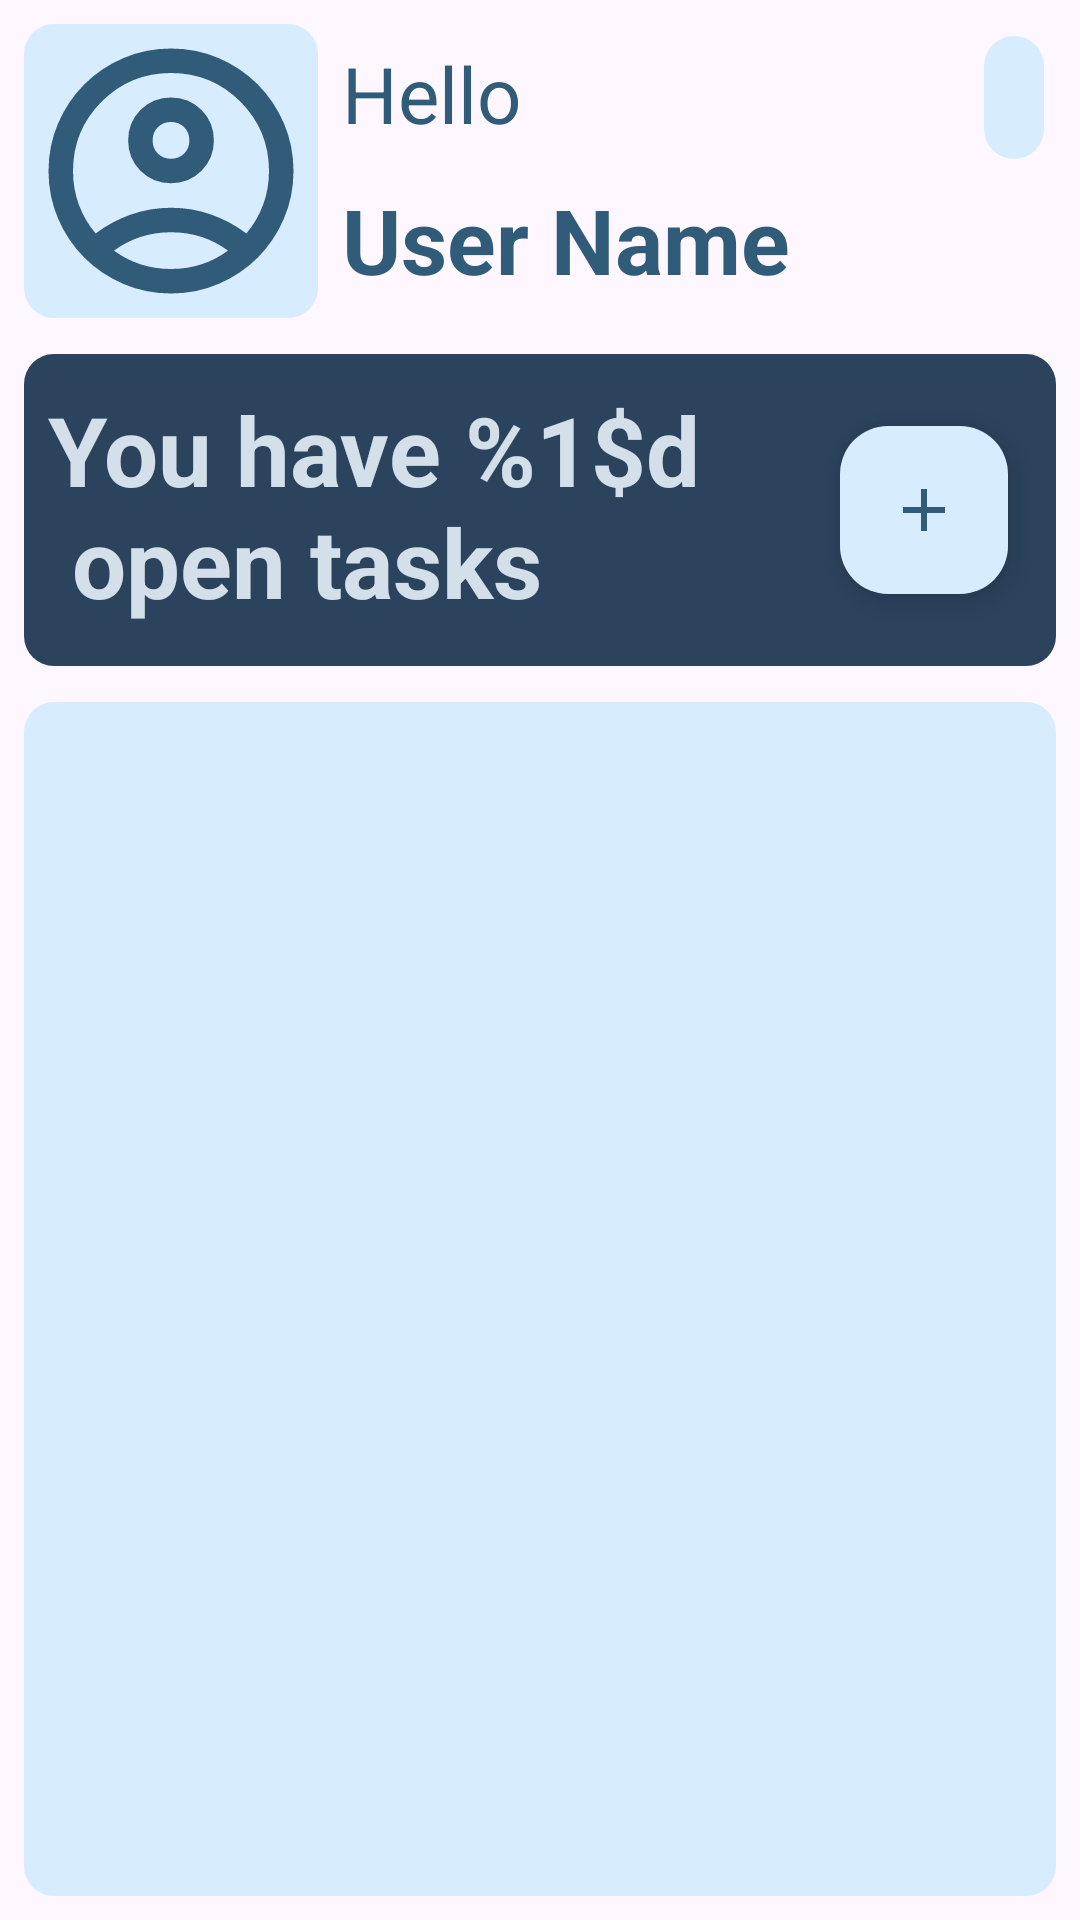

Icon click points for this 1080px×1920px phone screenshot, format (x,y):
plus: (924,510)
